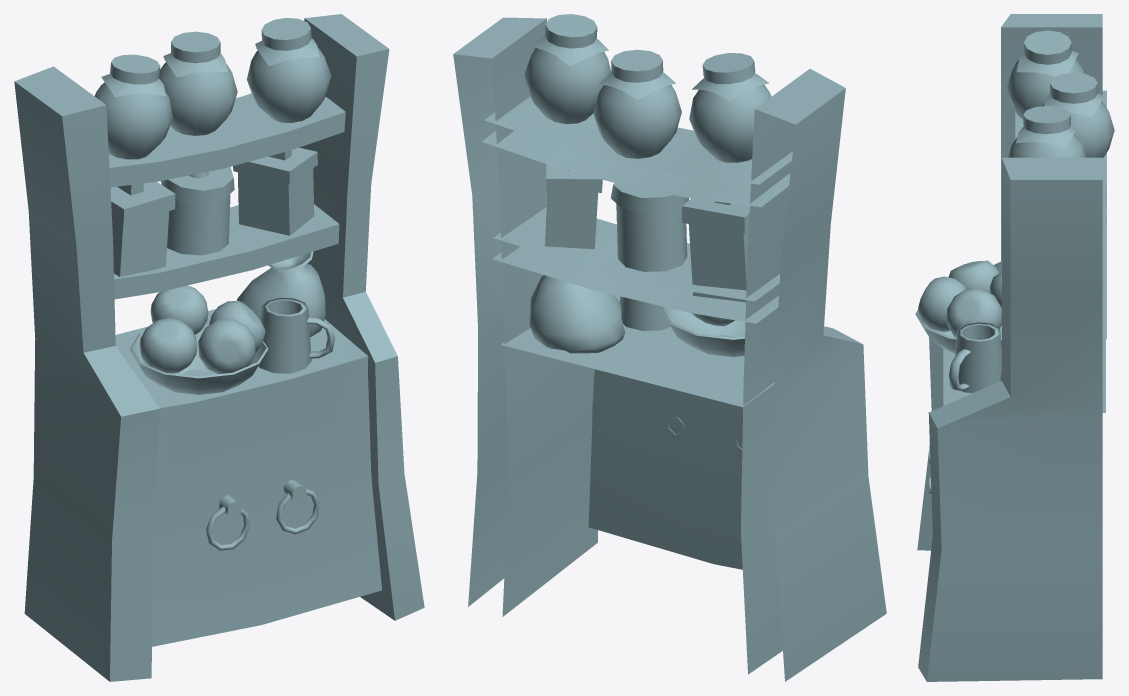
The model's file is cupboard_Lv3.fbx.
The picture shows the model from 3 angles, left to right: view 1: azimuth 30°, elevation 25°; view 2: azimuth 150°, elevation 25°; view 3: azimuth 270°, elevation 25°; orthographic projection. The views are drawn at different scales.
Visible parts, largest first — view 1: cupboard_3_low1; view 2: cupboard_3_low1; view 3: cupboard_3_low1.
Part boxes in pixels (box(x1,y1,x2,y2)): cupboard_3_low1: box(14, 14, 424, 681); cupboard_3_low1: box(453, 14, 886, 681); cupboard_3_low1: box(915, 14, 1114, 681).
Bounding box in the file's own units: 112 × 181 × 61.05.
